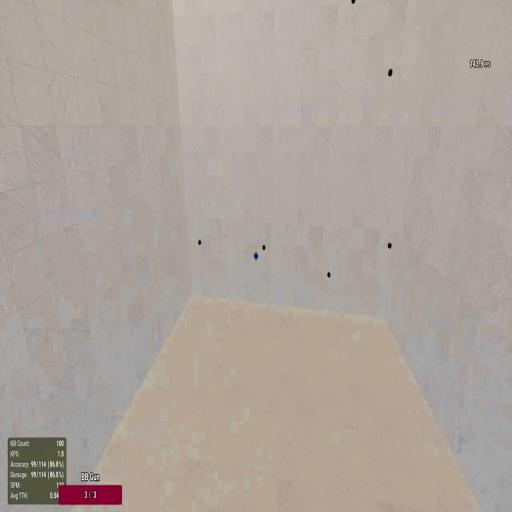Crosshair: (254, 251, 258, 260)
Target: (388, 67, 394, 79), (386, 241, 392, 249), (197, 238, 202, 247), (350, 0, 356, 6), (262, 244, 266, 251), (327, 272, 331, 278)
